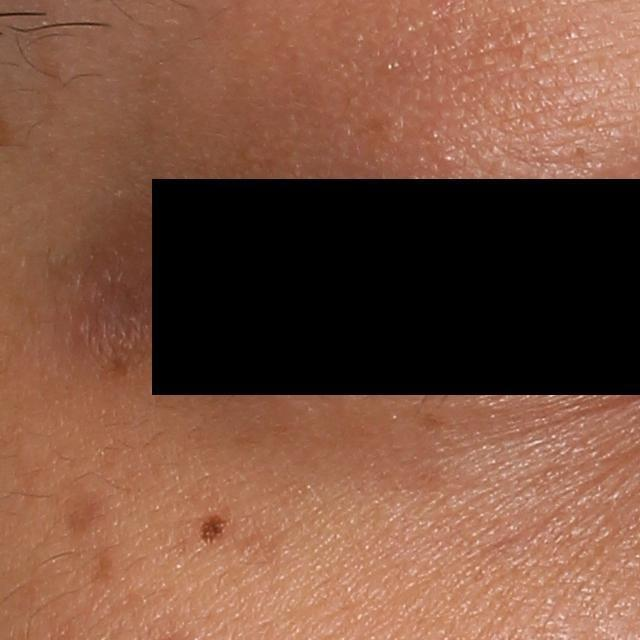nevus: (198, 511, 232, 545)
